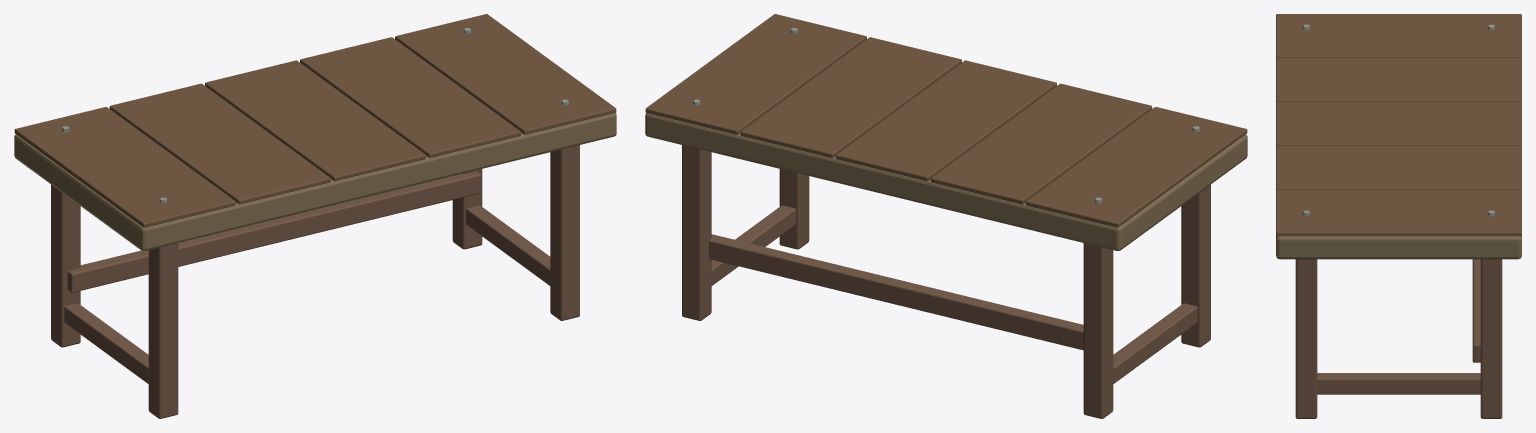
The model's file is workbench.glb.
3 renders of one model, left to right at view 1: azimuth 30°, elevation 25°; view 2: azimuth 150°, elevation 25°; view 3: azimuth 270°, elevation 25°, orthographic. The views are drawn at different scales.
Parts seen in each view (by area): view 1: workbench; view 2: workbench; view 3: workbench.
Part boxes in pixels (x1,y1,x2,y2): workbench: (14, 14, 616, 418); workbench: (645, 14, 1247, 418); workbench: (1276, 14, 1521, 418).
Size of the model in its own units: 1.8 by 0.776 by 0.85.
